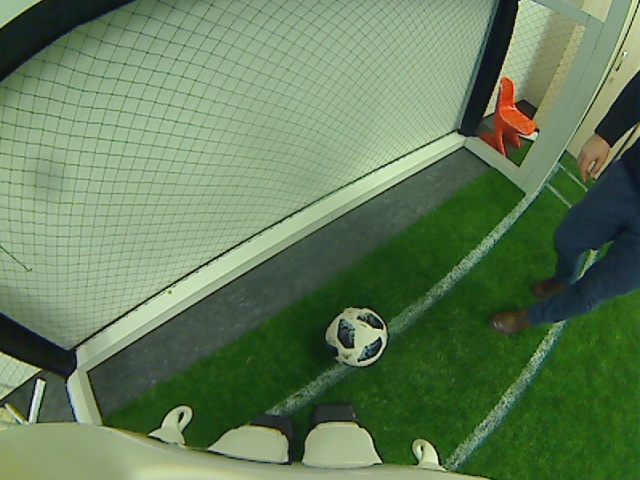ball: (325, 306, 388, 371)
